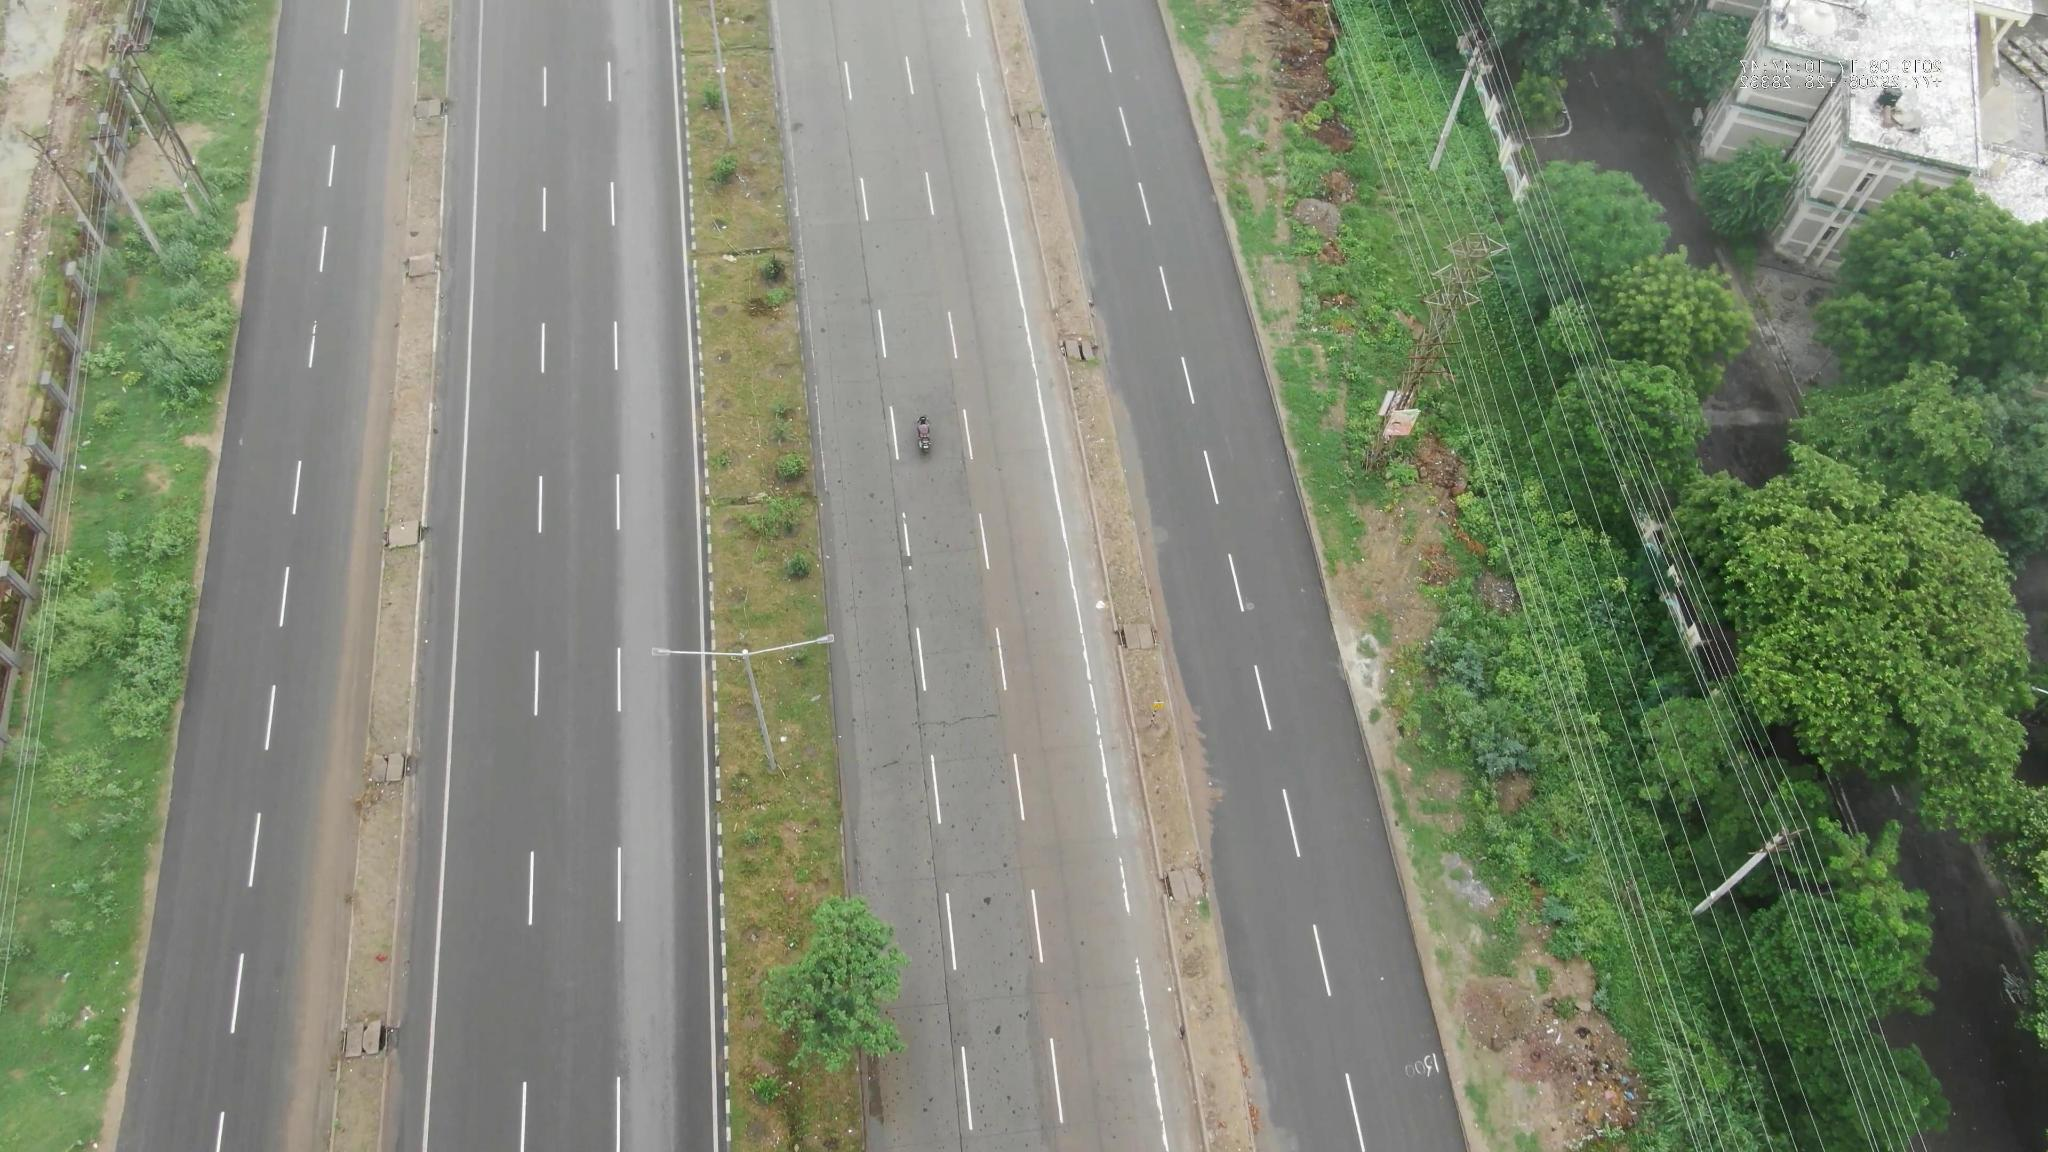Cracks: (852, 685, 1006, 781)
